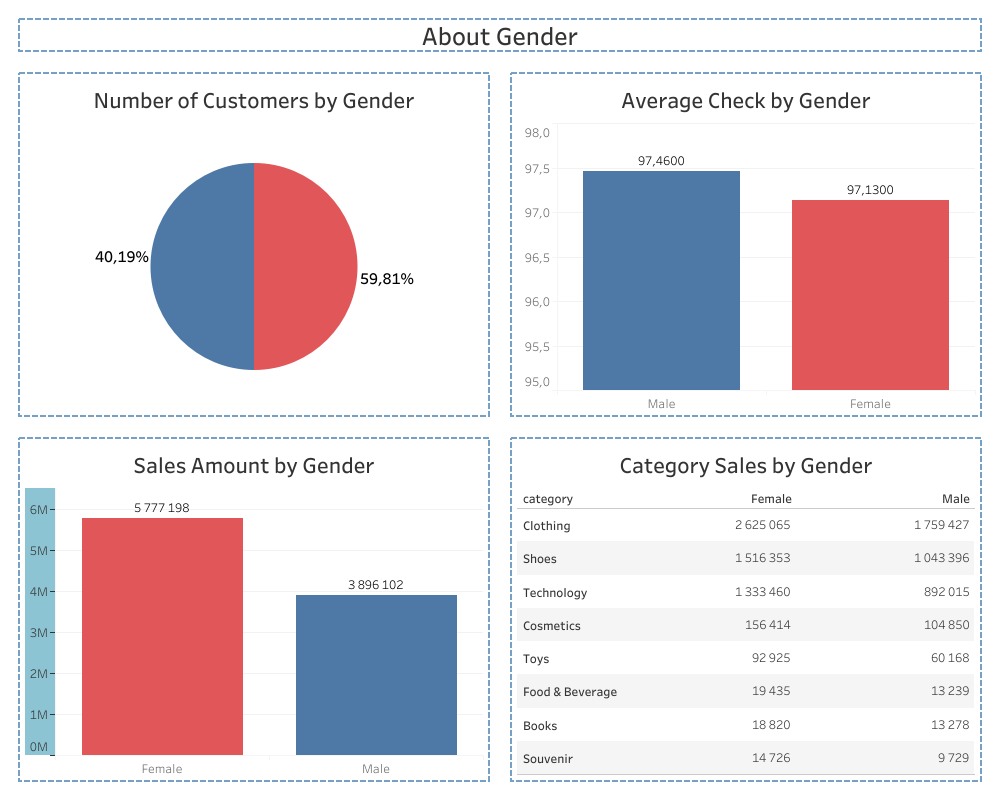

Layout of this report page (visuals, bound fields, positions):
{"tool":"tableau","page":{"name":"Gender","canvas":[1000,800],"ordinal":2},"visuals":[{"type":"title","box":[8,8,984,54]},{"type":"worksheet","title":"gender_count","mark":"Pie","box":[8,62,492,365]},{"type":"worksheet","title":"gender_avg_check","mark":"Automatic","rows":["Calculation_1055569032396896"],"cols":["gender"],"box":[500,62,492,365]},{"type":"worksheet","title":"gender_sales","mark":"Automatic","rows":["Calculation_1055569032224863"],"cols":["gender"],"box":[8,427,492,365]},{"type":"worksheet","title":"gender_category","mark":"Automatic","rows":["category"],"cols":["gender"],"box":[500,427,492,365]}]}

Visuals, with their boxes in screenshot pixels (x1, y1, x2, y2), scaled from the page's 1000x800 canvas onto the 999x799 screenshot:
title: bbox=(8, 8, 991, 62)
"gender_count" worksheet (Pie marks): bbox=(8, 62, 500, 426)
"gender_avg_check" worksheet: bbox=(500, 62, 991, 426)
"gender_sales" worksheet: bbox=(8, 426, 500, 791)
"gender_category" worksheet: bbox=(500, 426, 991, 791)
